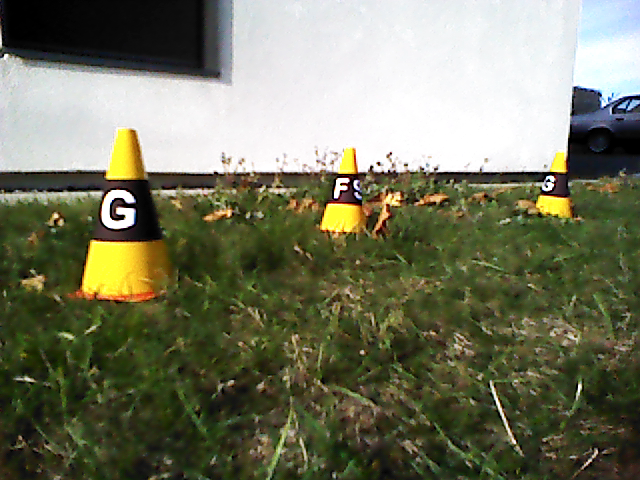yellowcone: (82, 129, 174, 293), (322, 149, 365, 230), (537, 153, 571, 218)
